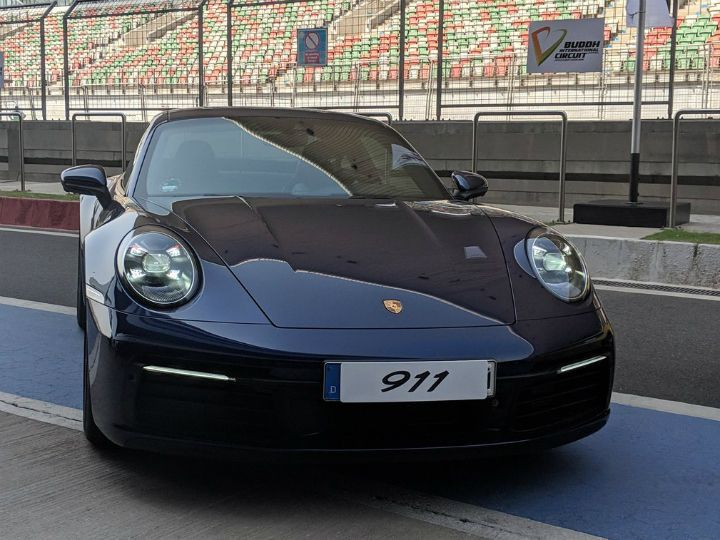number_plate: (317, 354, 503, 407)
